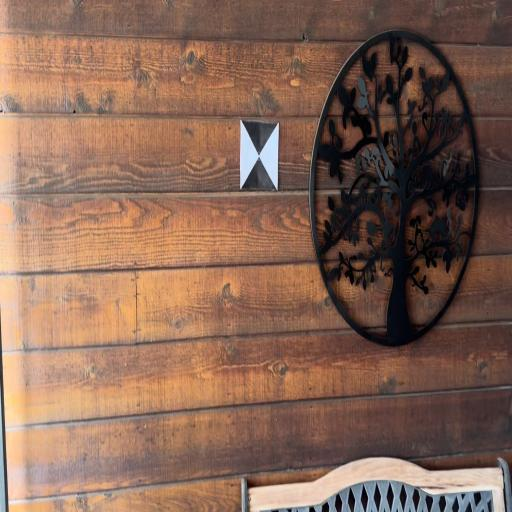target: (240, 121, 280, 191)
